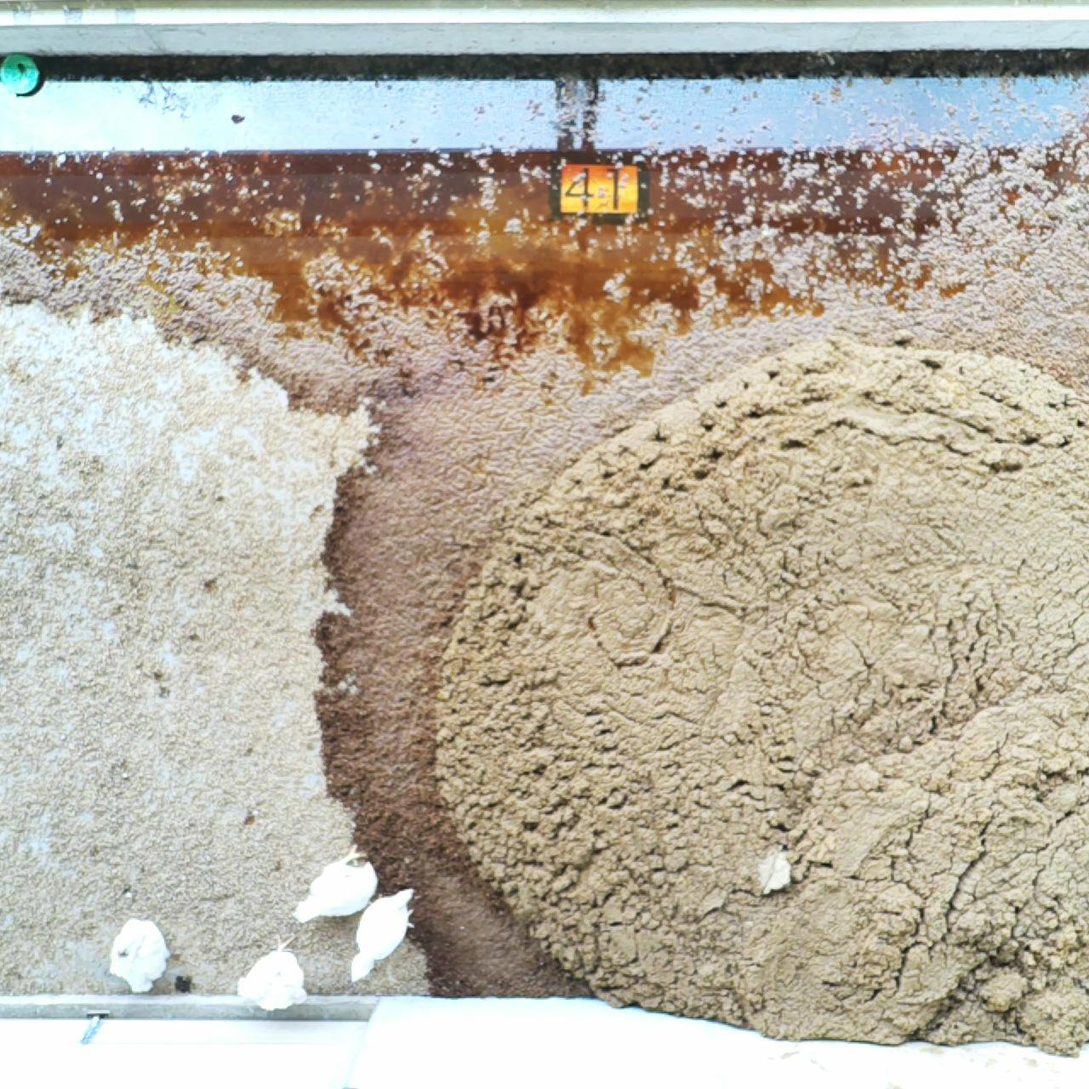chicken: (343, 884, 426, 978), (297, 841, 374, 925), (225, 938, 303, 1007), (108, 917, 182, 988)
